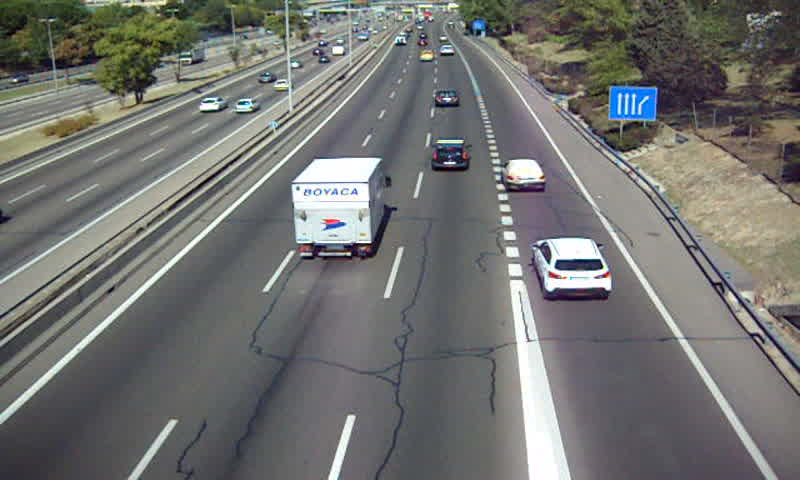car: (530, 237, 613, 301), (430, 136, 469, 172), (503, 158, 545, 190), (433, 89, 459, 109), (439, 44, 456, 56), (418, 49, 434, 60)
small-truck: (289, 158, 387, 260)
